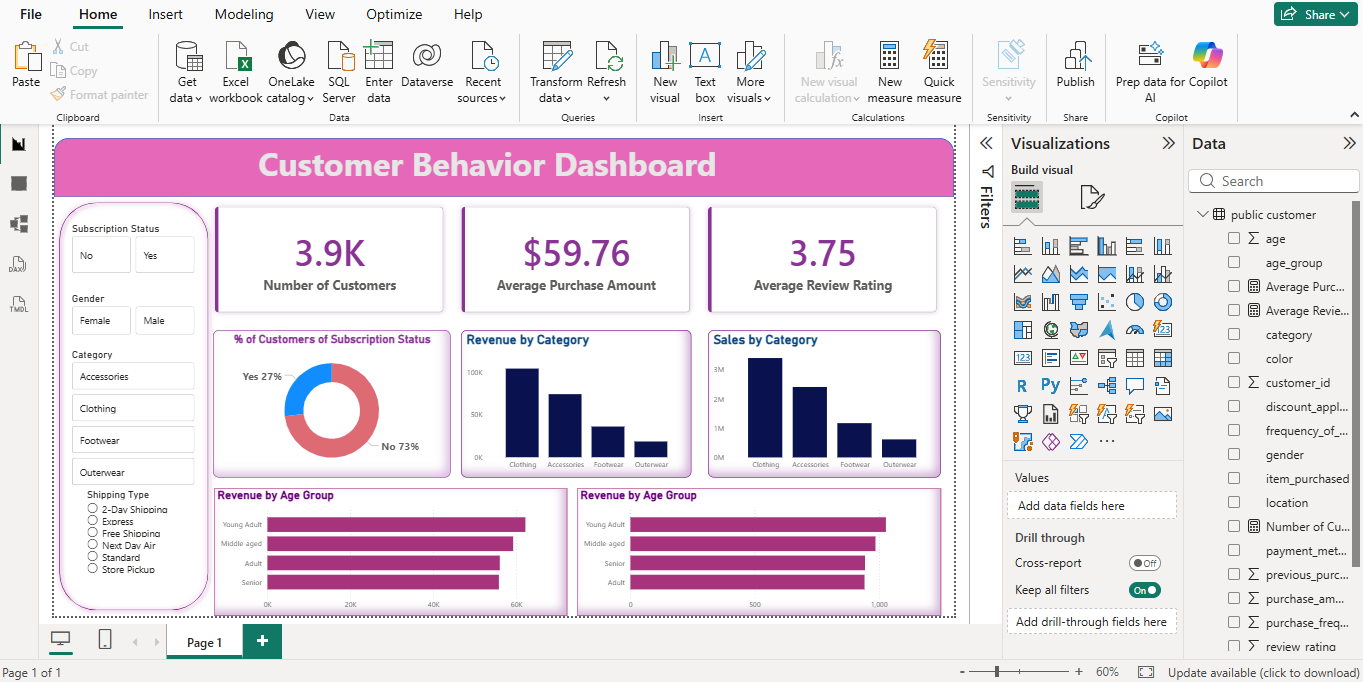

This screenshot's page, from the dashboard's own definition file:
{"tool":"powerbi","page":{"name":"Page 1","canvas":[1500,820],"ordinal":0},"visuals":[{"type":"cardVisual","fields":{"Data":["public customer.Number of Customers","public customer.Average Purchase Amount","public customer.Average Review Rating"]},"box":[240.2,110.2,1259.8,232.3],"z":0},{"type":"shape","box":[0,23.6,1500,98.4],"z":1000},{"type":"textbox","box":[0,23.6,1444.9,98.4],"z":2000},{"type":"donutChart","title":"% of Customers of  Subscription Status","fields":{"Category":["public customer.subscription_status"],"Y":["CountNonNull(public customer.customer_id)"]},"box":[265.7,342.5,395.7,246.1],"z":3000},{"type":"clusteredColumnChart","title":"Revenue by Category","fields":{"Category":["public customer.category"],"Y":["Sum(public customer.purchase_amount)"]},"box":[679.1,342.5,383.9,246.1],"z":4000},{"type":"clusteredColumnChart","title":"Sales by Category","fields":{"Category":["public customer.category"],"Y":["Sum(public customer.customer_id)"]},"box":[1090,343,388.3,246.4],"z":5000},{"type":"shape","box":[0,122.2,266.1,697.8],"z":6000},{"type":"advancedSlicerVisual","fields":{"Values":["public customer.subscription_status"]},"box":[25.6,163.6,214.8,90.7],"z":7000},{"type":"advancedSlicerVisual","fields":{"Values":["public customer.gender"]},"box":[25.6,279.9,214.8,76.9],"z":8000},{"type":"advancedSlicerVisual","fields":{"Values":["public customer.category"]},"box":[25.6,372.5,214.8,234.6],"z":9000},{"type":"listSlicer","fields":{"Values":["public customer.shipping_type"]},"box":[49.3,607.1,169.5,191.2],"z":10000},{"type":"clusteredBarChart","title":"Revenue by Age Group","fields":{"Y":["Sum(public customer.purchase_amount)"],"Category":["public customer.age_group"]},"box":[266.1,607.1,589.4,212.9],"z":11000},{"type":"clusteredBarChart","title":"Revenue by Age Group","fields":{"Y":["CountNonNull(public customer.customer_id)"],"Category":["public customer.age_group"]},"box":[871.2,607.1,607.1,212.9],"z":12000}]}

Visuals, with their boxes on the page's 1500x820 design canvas (x1, y1, x2, y2). These are canvas units, not pixel positions in the 1363x682 screenshot, which may show the page scaled, cropped or inside an application window:
cardVisual - public customer.Number of Customers x public customer.Average Purchase Amount: bbox(240, 110, 1500, 342)
shape: bbox(0, 24, 1500, 122)
textbox: bbox(0, 24, 1445, 122)
"% of Customers of  Subscription Status" donutChart: bbox(266, 342, 661, 589)
"Revenue by Category" clusteredColumnChart: bbox(679, 342, 1063, 589)
"Sales by Category" clusteredColumnChart: bbox(1090, 343, 1478, 589)
shape: bbox(0, 122, 266, 820)
advancedSlicerVisual - public customer.subscription_status: bbox(26, 164, 240, 254)
advancedSlicerVisual - public customer.gender: bbox(26, 280, 240, 357)
advancedSlicerVisual - public customer.category: bbox(26, 372, 240, 607)
listSlicer - public customer.shipping_type: bbox(49, 607, 219, 798)
"Revenue by Age Group" clusteredBarChart: bbox(266, 607, 856, 820)
"Revenue by Age Group" clusteredBarChart: bbox(871, 607, 1478, 820)
